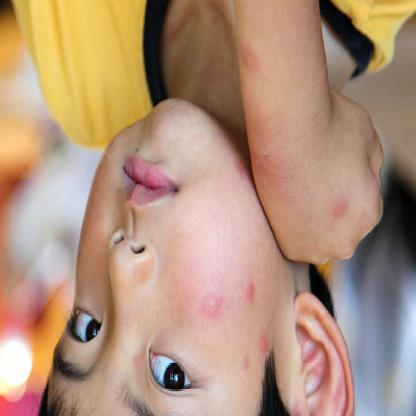Bed Bug: (199, 287, 227, 325), (328, 192, 350, 222), (240, 40, 258, 76), (241, 281, 257, 307), (257, 331, 269, 362), (231, 159, 245, 185)
